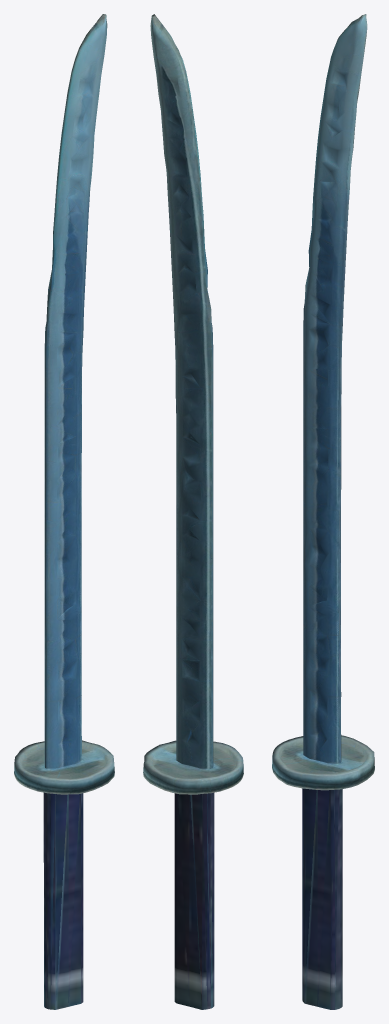
The model's file is katana.glb.
3 views of the same model, side by side, from view 1: azimuth 30°, elevation 25°; view 2: azimuth 150°, elevation 25°; view 3: azimuth 330°, elevation 25° (orthographic). The views are drawn at different scales.
Bounding box in the file's own units: 0.0884 × 0.9512 × 0.0884.
1 material, 1 textured.
